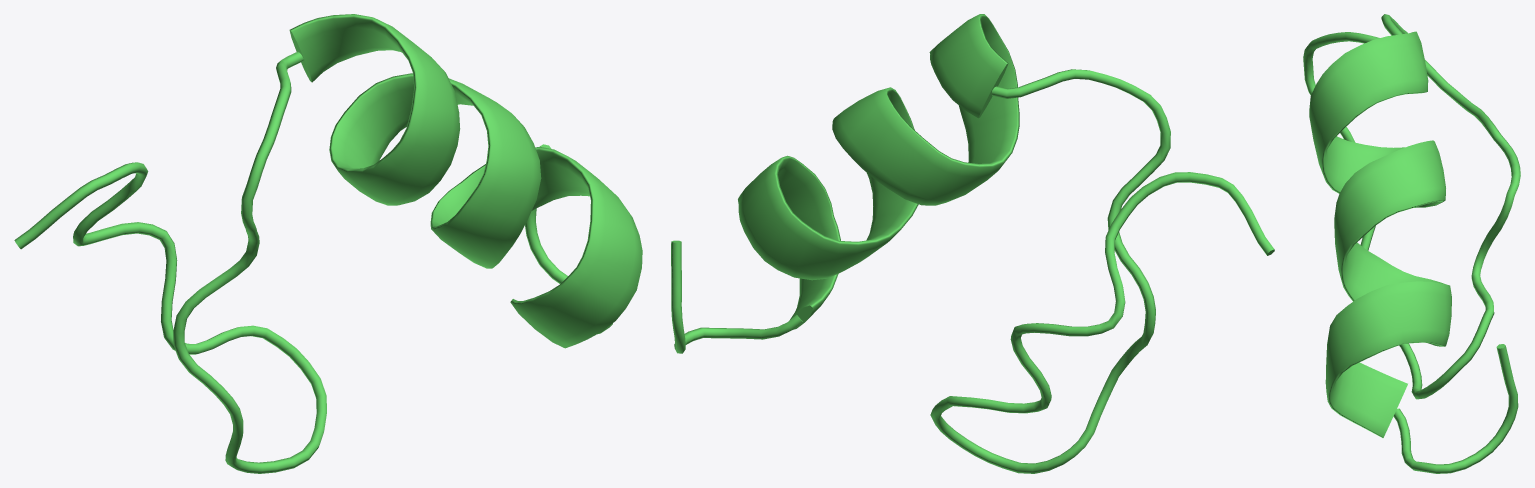
File: 1fsd.gltf
3 views of the same model, side by side, from view 1: azimuth 30°, elevation 25°; view 2: azimuth 150°, elevation 25°; view 3: azimuth 270°, elevation 25° (orthographic). The views are drawn at different scales.
Visible parts, largest first — view 1: node-geom0; view 2: node-geom0; view 3: node-geom0.
Part boxes in pixels (box(x1,y1,x2,y2)): node-geom0: box(14, 14, 642, 473); node-geom0: box(671, 14, 1274, 473); node-geom0: box(1303, 14, 1520, 473).
Size of the model in its own units: 24.72 by 17.43 by 9.09.
